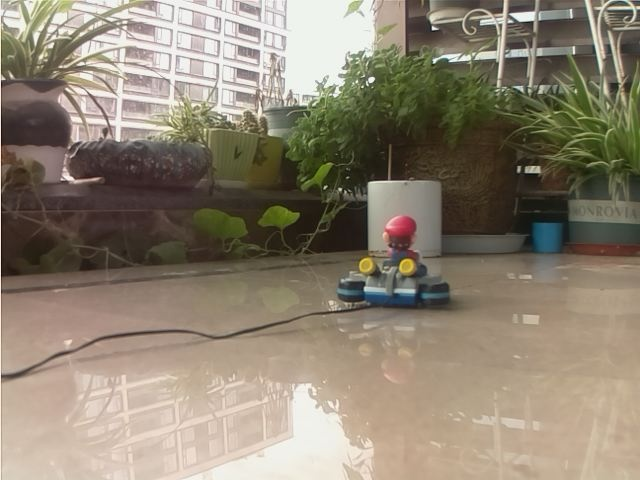mario: (328, 205, 460, 316)
